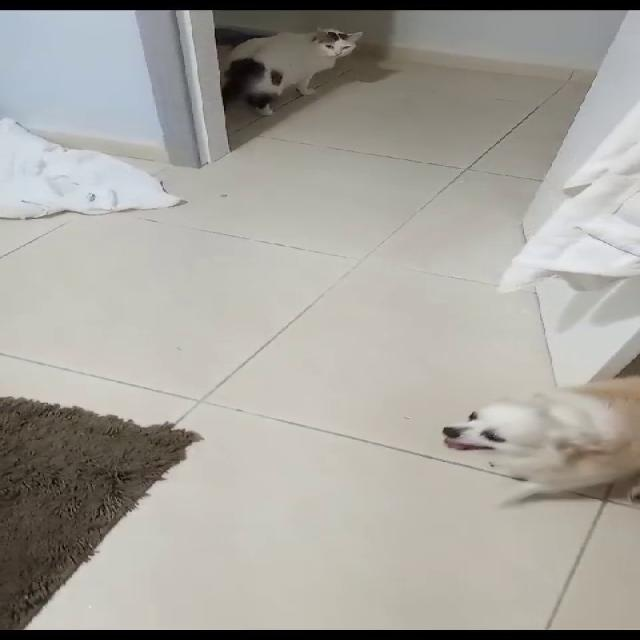Simba: (208, 13, 373, 130)
Theo: (436, 378, 639, 511)
